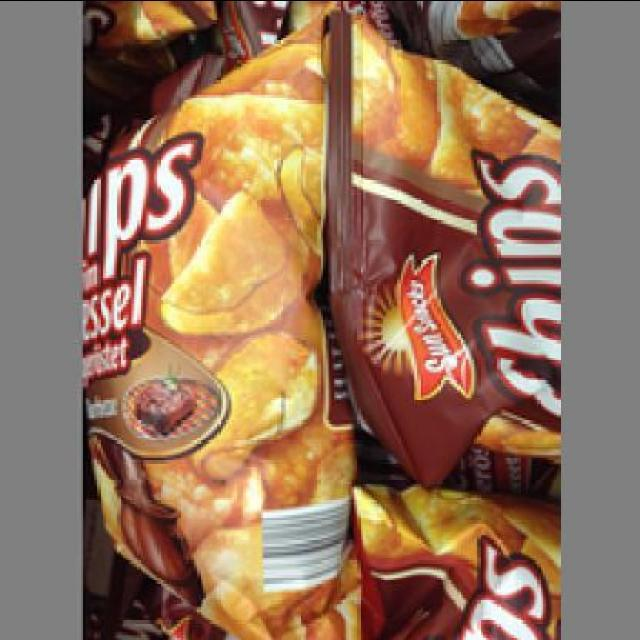Chips: (83, 23, 346, 639), (323, 8, 560, 484)
